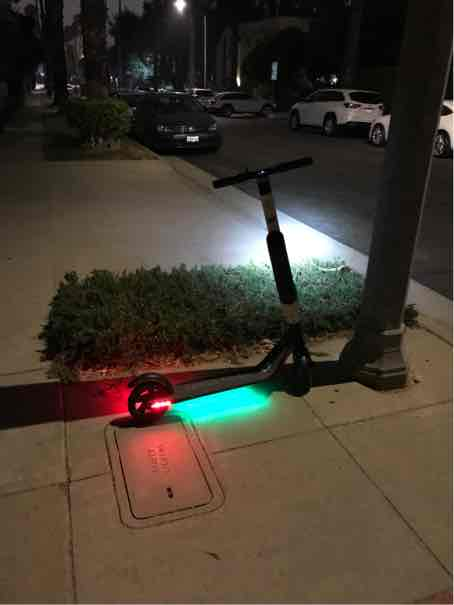scooter: (117, 152, 325, 434)
